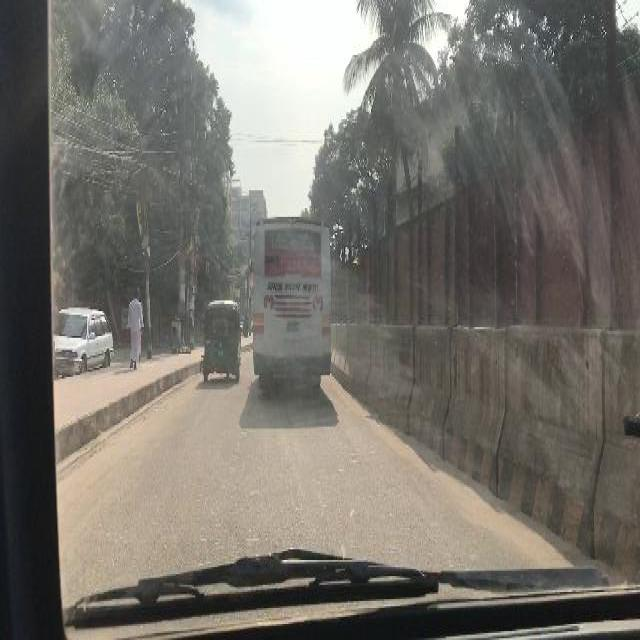vehicle: (251, 214, 336, 397), (56, 307, 115, 378), (201, 296, 242, 390)
